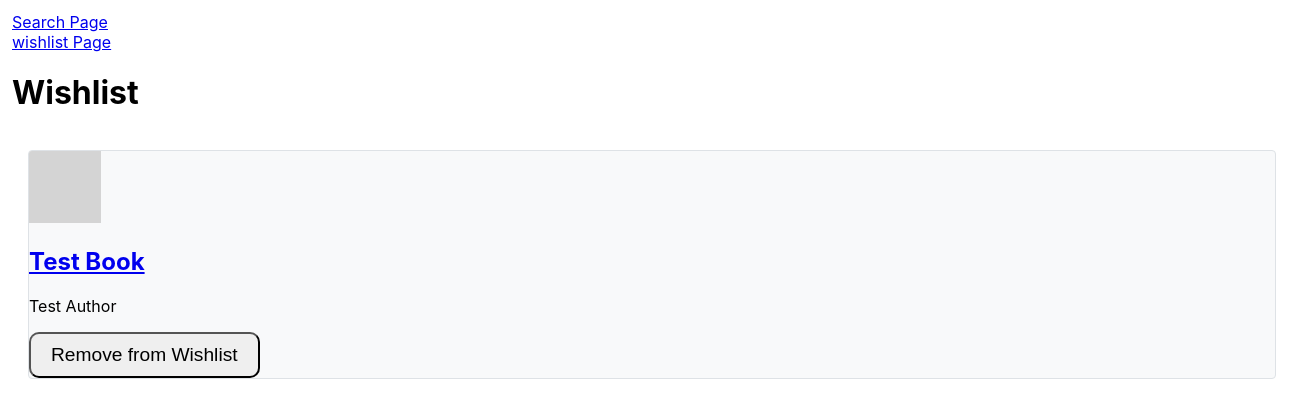
Test case: WishList › remove book from wishlist
The image size is (1292, 396).
Click the button "Remove from Wishlist" at (144, 355), box x1=29 y1=332 x2=260 y2=378
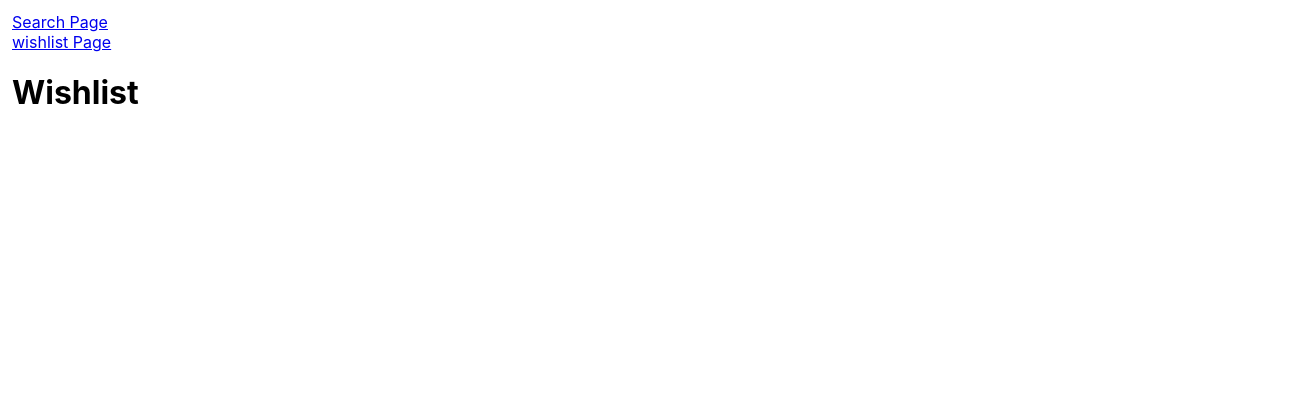
Expected: the link titled "Test Book" is gone
